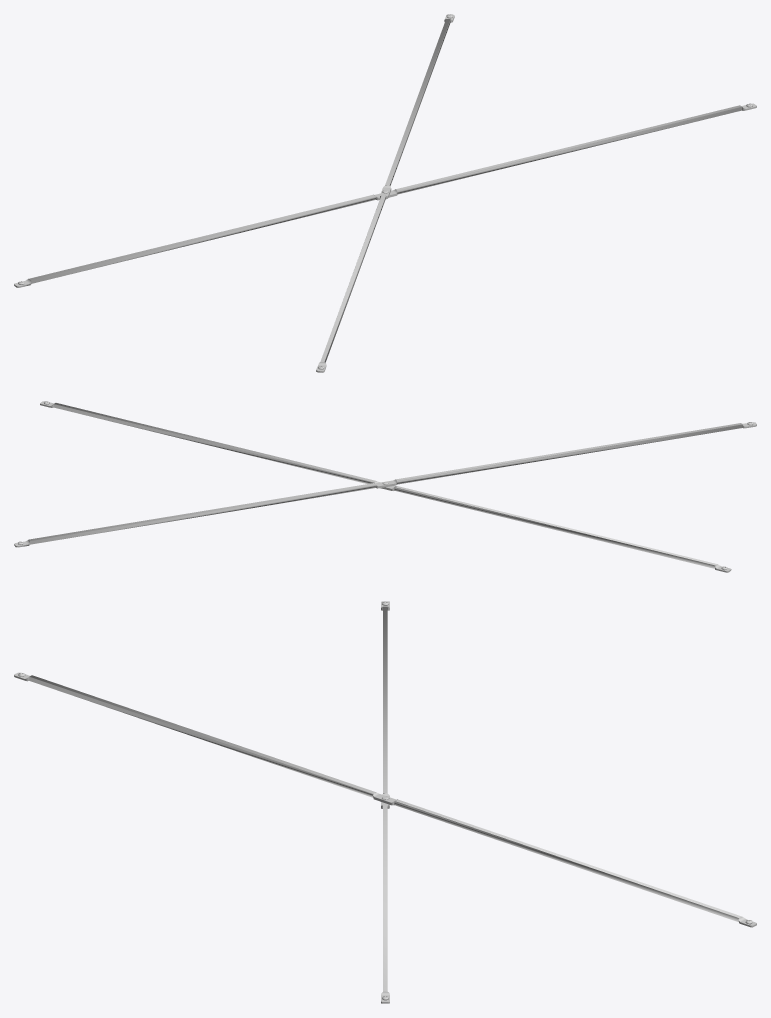
File: 15 - OBSERVATÖR - 交叉固定桿, 電鍍, 100 公分 IKEA 線上購物.glb
3 views of the same model, one above another, from view 1: azimuth 30°, elevation 25°; view 2: azimuth 150°, elevation 25°; view 3: azimuth 270°, elevation 25° (orthographic). The views are drawn at different scales.
Parts seen in each view (by area): view 1: model; view 2: model; view 3: model.
Boxes of the visible parts, x1,y1,x2,y2 form: model: [14, 14, 756, 372]; model: [14, 401, 756, 572]; model: [14, 601, 756, 1003].
Size of the model in its own units: 1.02 by 0.00797 by 0.7992.
Materials: 1 (1 with a texture image).
